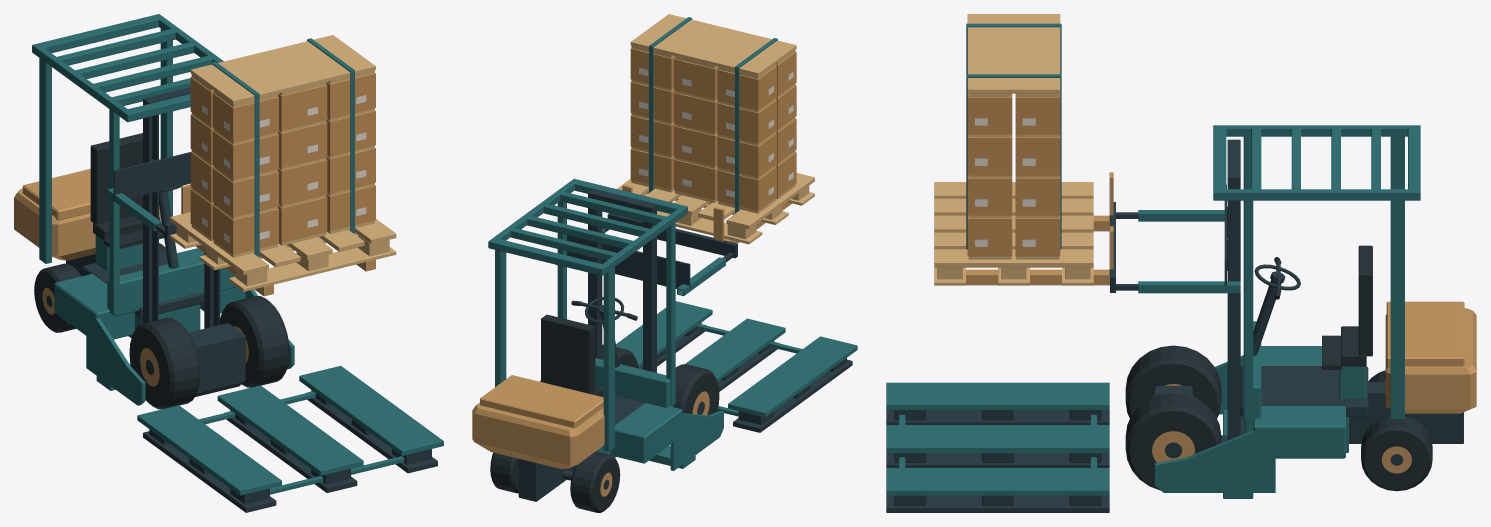
File: forklift-pallet-high-fixture.glb
3 views of the same model, side by side, from view 1: azimuth 30°, elevation 25°; view 2: azimuth 150°, elevation 25°; view 3: azimuth 270°, elevation 25° (orthographic). The views are drawn at different scales.
Parts seen in each view (by area): view 1: forklift-pallet-high-fixture__batch_01, forklift-pallet-high-fixture__batch_28, forklift-pallet-high-fixture__batch_25, forklift-pallet-high-fixture__batch_27, forklift-pallet-high-fixture__batch_00, forklift-pallet-high-fixture__batch_24, forklift-pallet-high-fixture__batch_02, forklift-pallet-high-fixture__batch_19, forklift-pallet-high-fixture__batch_22, forklift-pallet-high-fixture__batch_23, forklift-pallet-high-fixture__batch_03, forklift-pallet-high-fixture__batch_26 (+3 smaller); view 2: forklift-pallet-high-fixture__batch_01, forklift-pallet-high-fixture__batch_28, forklift-pallet-high-fixture__batch_27, forklift-pallet-high-fixture__batch_02, forklift-pallet-high-fixture__batch_25, forklift-pallet-high-fixture__batch_00, forklift-pallet-high-fixture__batch_23, forklift-pallet-high-fixture__batch_24, forklift-pallet-high-fixture__batch_11, forklift-pallet-high-fixture__batch_26, forklift-pallet-high-fixture__batch_19, forklift-pallet-high-fixture__batch_03 (+4 smaller); view 3: forklift-pallet-high-fixture__batch_01, forklift-pallet-high-fixture__batch_25, forklift-pallet-high-fixture__batch_27, forklift-pallet-high-fixture__batch_28, forklift-pallet-high-fixture__batch_00, forklift-pallet-high-fixture__batch_24, forklift-pallet-high-fixture__batch_02, forklift-pallet-high-fixture__batch_22, forklift-pallet-high-fixture__batch_19, forklift-pallet-high-fixture__batch_14, forklift-pallet-high-fixture__batch_23, forklift-pallet-high-fixture__batch_08 (+4 smaller).
Part boxes in pixels (x1,y1,x2,y2): forklift-pallet-high-fixture__batch_01: [32, 14, 294, 405]; forklift-pallet-high-fixture__batch_28: [190, 73, 375, 254]; forklift-pallet-high-fixture__batch_25: [137, 365, 443, 495]; forklift-pallet-high-fixture__batch_27: [170, 35, 396, 291]; forklift-pallet-high-fixture__batch_00: [66, 87, 245, 396]; forklift-pallet-high-fixture__batch_24: [143, 390, 437, 512]; forklift-pallet-high-fixture__batch_02: [14, 168, 161, 260]; forklift-pallet-high-fixture__batch_19: [129, 318, 200, 409]; forklift-pallet-high-fixture__batch_22: [219, 296, 289, 387]; forklift-pallet-high-fixture__batch_23: [90, 133, 163, 248]; forklift-pallet-high-fixture__batch_03: [113, 152, 190, 201]; forklift-pallet-high-fixture__batch_26: [211, 38, 354, 257]; forklift-pallet-high-fixture__batch_01: [488, 178, 723, 470]; forklift-pallet-high-fixture__batch_28: [630, 48, 796, 210]; forklift-pallet-high-fixture__batch_27: [617, 14, 814, 244]; forklift-pallet-high-fixture__batch_02: [472, 375, 604, 468]; forklift-pallet-high-fixture__batch_25: [616, 301, 857, 417]; forklift-pallet-high-fixture__batch_00: [518, 189, 656, 501]; forklift-pallet-high-fixture__batch_23: [541, 314, 603, 397]; forklift-pallet-high-fixture__batch_24: [639, 322, 852, 432]; forklift-pallet-high-fixture__batch_11: [570, 451, 620, 512]; forklift-pallet-high-fixture__batch_26: [649, 17, 777, 213]; forklift-pallet-high-fixture__batch_19: [673, 364, 719, 415]; forklift-pallet-high-fixture__batch_03: [567, 235, 690, 291]; forklift-pallet-high-fixture__batch_01: [1154, 125, 1420, 498]; forklift-pallet-high-fixture__batch_25: [886, 382, 1109, 495]; forklift-pallet-high-fixture__batch_27: [934, 14, 1093, 285]; forklift-pallet-high-fixture__batch_28: [967, 93, 1060, 256]; forklift-pallet-high-fixture__batch_00: [1154, 139, 1463, 443]; forklift-pallet-high-fixture__batch_24: [886, 410, 1109, 512]; forklift-pallet-high-fixture__batch_02: [1385, 301, 1476, 413]; forklift-pallet-high-fixture__batch_22: [1125, 392, 1221, 490]; forklift-pallet-high-fixture__batch_19: [1125, 345, 1221, 418]; forklift-pallet-high-fixture__batch_14: [1361, 416, 1432, 491]; forklift-pallet-high-fixture__batch_23: [1322, 245, 1372, 369]; forklift-pallet-high-fixture__batch_08: [1138, 210, 1240, 293].
Bounding box in the file's own units: 1.6 × 2.85 × 3.7.
